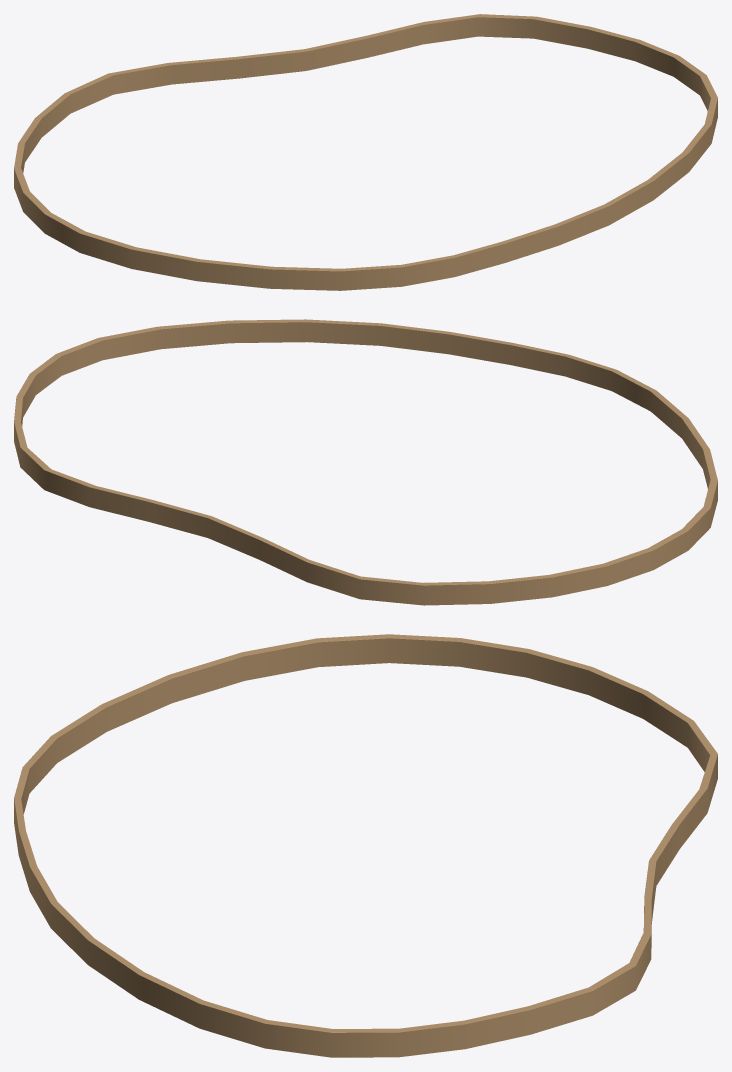
Rendered from rubber_band_from_poly_by_google.glb.
The picture shows the model from 3 angles, top to bottom: view 1: azimuth 30°, elevation 25°; view 2: azimuth 150°, elevation 25°; view 3: azimuth 270°, elevation 25°; orthographic projection. The views are drawn at different scales.
Parts seen in each view (by area): view 1: Object_4; view 2: Object_4; view 3: Object_4.
Boxes of the visible parts, x1,y1,x2,y2 form: Object_4: [14, 14, 717, 290]; Object_4: [14, 319, 717, 605]; Object_4: [14, 634, 717, 1057].
Size of the model in its own units: 0.1069 by 0.00312 by 0.0798.
